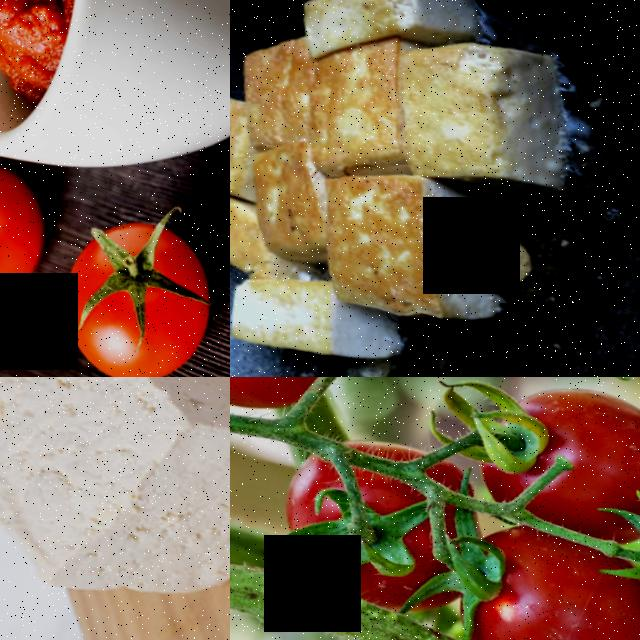tofu: (0, 377, 230, 640), (282, 150, 526, 357), (366, 19, 599, 220), (281, 0, 499, 79), (230, 266, 381, 377), (230, 90, 276, 213)
tomato: (20, 192, 230, 377), (415, 512, 640, 640), (0, 146, 58, 329)
